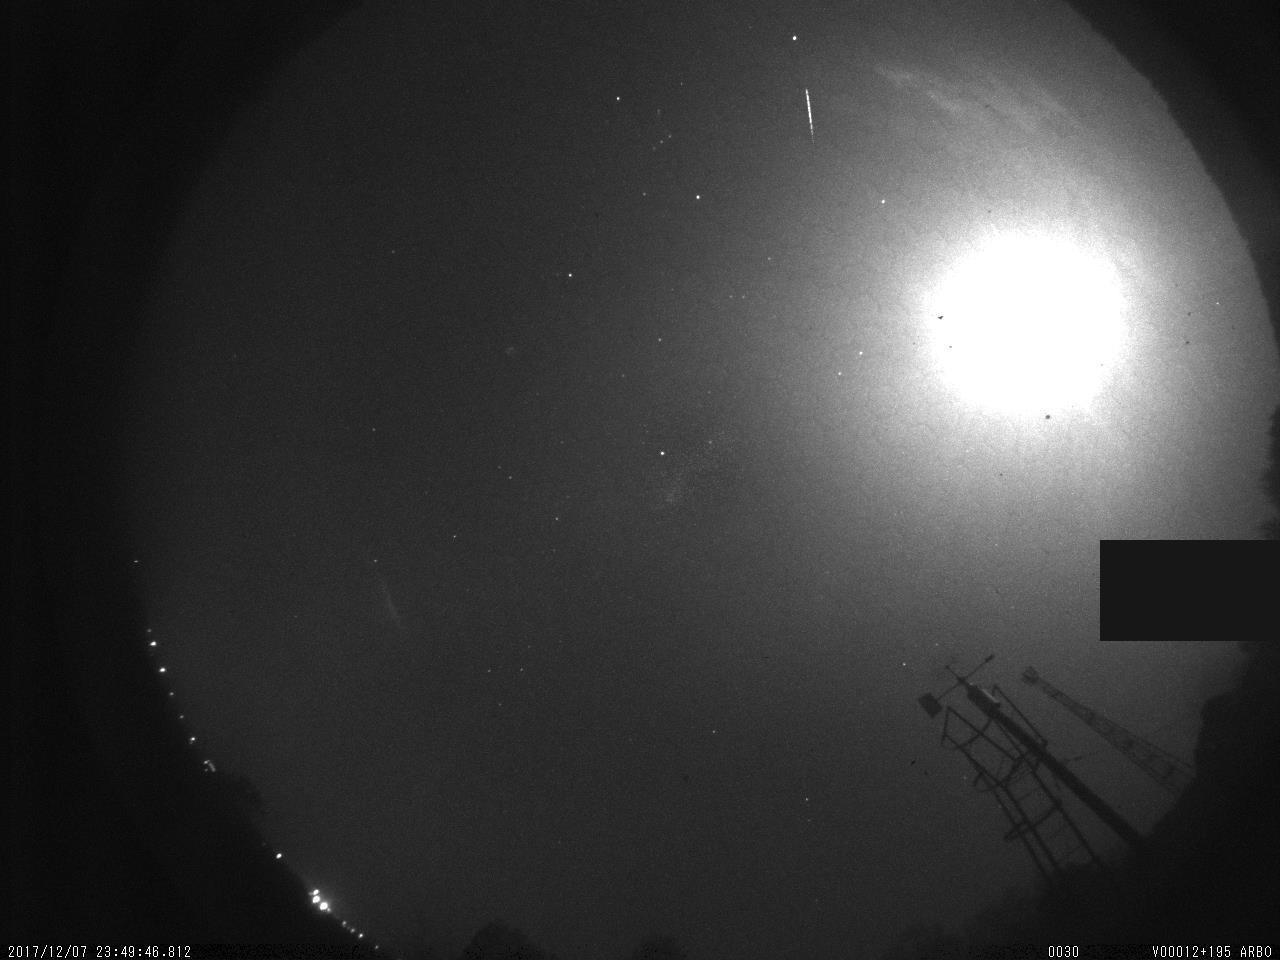meteor: (803, 87, 818, 147)
